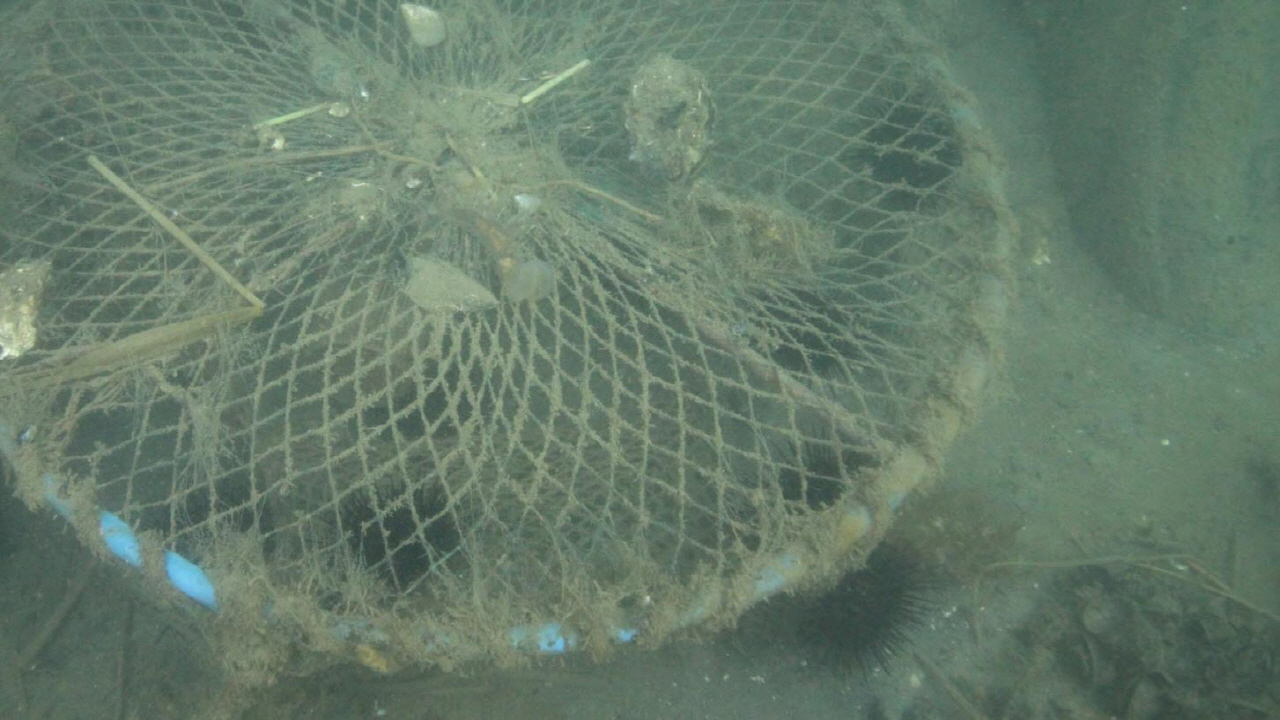circular fish trap: (0, 0, 1017, 675)
